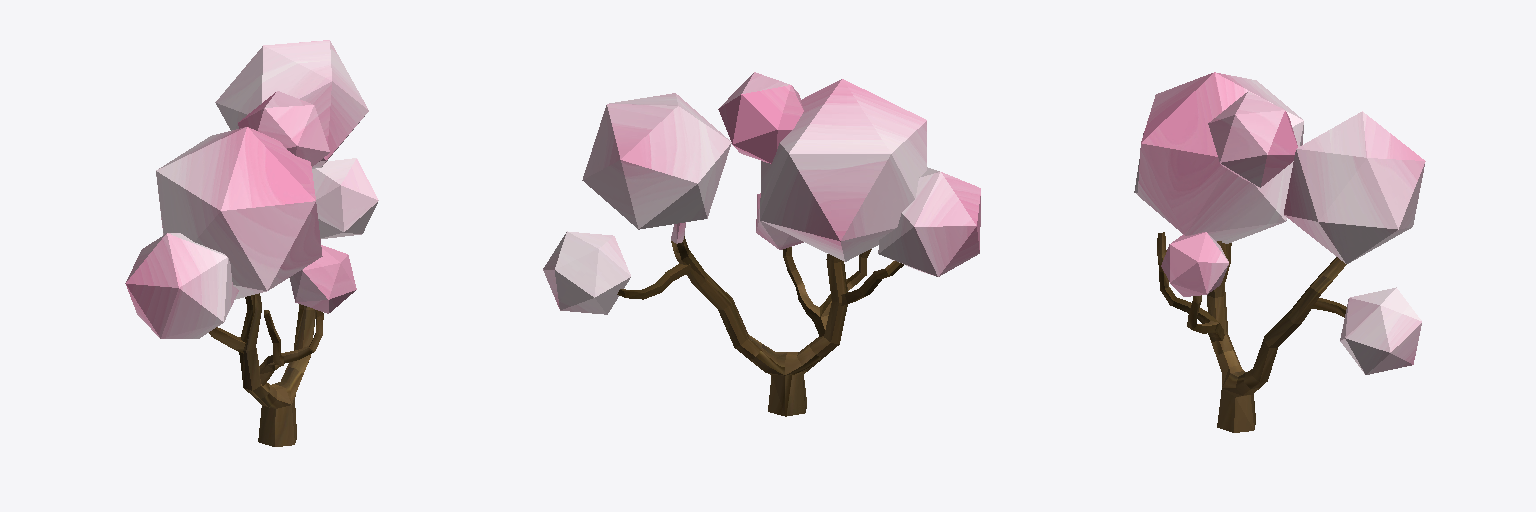
3 renders of one model, left to right at view 1: azimuth 30°, elevation 25°; view 2: azimuth 150°, elevation 25°; view 3: azimuth 270°, elevation 25°, orthographic.
Parts seen in each view (by area): view 1: Tree_lp_11_Mesh; view 2: Tree_lp_11_Mesh; view 3: Tree_lp_11_Mesh.
Boxes of the visible parts, <box> form: Tree_lp_11_Mesh: <box>125,40,378,446</box>; Tree_lp_11_Mesh: <box>543,72,980,416</box>; Tree_lp_11_Mesh: <box>1134,72,1425,432</box>.
Size of the model in its own units: 27.98 by 26.54 by 20.8.
Materials: 2 (2 with a texture image).